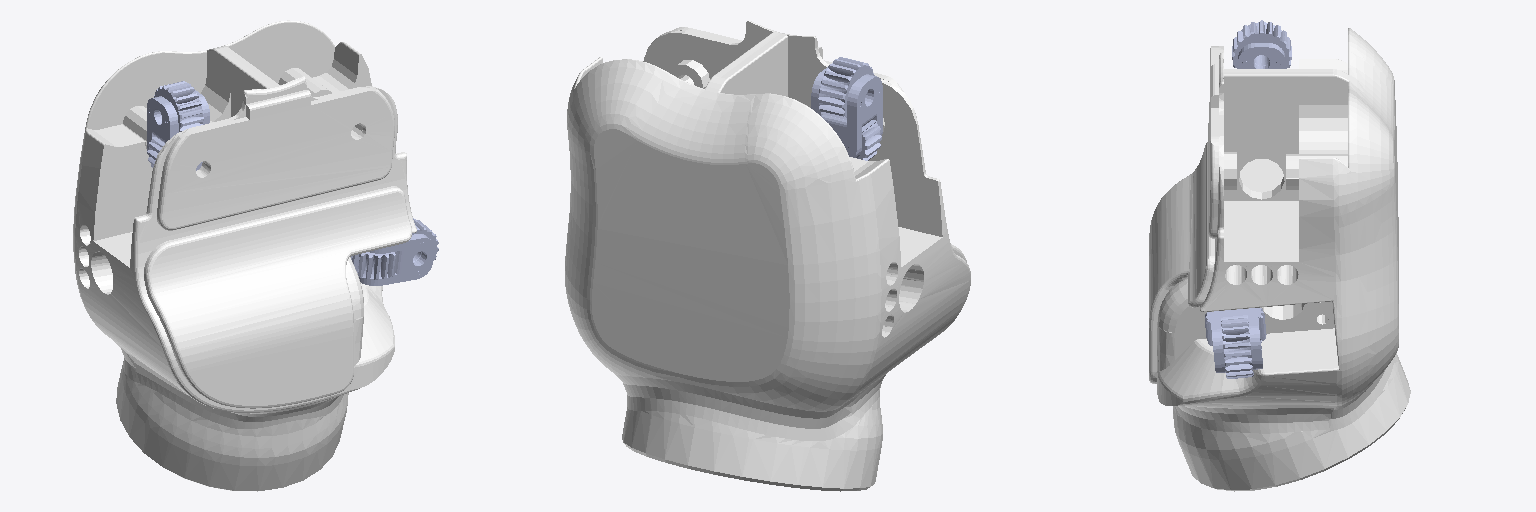
robot.urdf — HX01P1_2_URDF_2025_04_25:
<?xml version="1.0" encoding="utf-8"?>
<!-- This URDF was automatically created by SolidWorks to URDF Exporter! Originally created by [author] ([email redacted]) 
     Commit Version: 1.6.0-4-g7f85cfe  Build Version: 1.6.7995.38578
     For more information, please see http://wiki.ros.org/sw_urdf_exporter -->
<robot
  name="HX01P1_2_URDF_2025_04_25">
  <mujoco>
    <compiler meshdir="..\meshes" balanceinertia="false" discardvisual="false"/>
  </mujoco>
  <link
    name="base_link">
    <inertial>
      <origin
        xyz="-0.00314321543381847 1.13854543315466E-05 -0.0469933358701324"
        rpy="0 0 0" />
      <mass
        value="0.411547465045794" />
      <inertia
        ixx="0.000457197745587714"
        ixy="-1.45152611155004E-05"
        ixz="-9.30884132062933E-06"
        iyy="0.000528006291368628"
        iyz="-7.83914805263515E-05"
        izz="0.000353375974966479" />
    </inertial>
    <visual>
      <origin
        xyz="0 0 0"
        rpy="0 0 0" />
      <geometry>
        <mesh
          filename="package://HX01P1_2_URDF_2025_04_25/meshes/base_link.STL" />
      </geometry>
      <material
        name="">
        <color
          rgba="1 1 1 0.25" />
      </material>
    </visual>
    <collision>
      <origin
        xyz="0 0 0"
        rpy="0 0 0" />
      <geometry>
        <mesh
          filename="package://HX01P1_2_URDF_2025_04_25/meshes/base_link.STL" />
      </geometry>
    </collision>
  </link>
  <link
    name="Finger1_MCP_Knuckel">
    <inertial>
      <origin
        xyz="0.0421686696386719 -0.015426048645104 -0.0466060478506438"
        rpy="0 0 0" />
      <mass
        value="0.00436140273842147" />
      <inertia
        ixx="1.42159895349904E-07"
        ixy="-7.36939313995797E-10"
        ixz="1.48367569815417E-09"
        iyy="1.59816244339232E-07"
        iyz="6.12196033300201E-11"
        izz="1.59722430249032E-07" />
    </inertial>
    <visual>
      <origin
        xyz="0 0 0"
        rpy="0 0 0" />
      <geometry>
        <mesh
          filename="package://HX01P1_2_URDF_2025_04_25/meshes/Finger1_MCP_Knuckel.STL" />
      </geometry>
      <material
        name="">
        <color
          rgba="0.792156862745098 0.819607843137255 0.933333333333333 1" />
      </material>
    </visual>
    <collision>
      <origin
        xyz="0 0 0"
        rpy="0 0 0" />
      <geometry>
        <mesh
          filename="package://HX01P1_2_URDF_2025_04_25/meshes/Finger1_MCP_Knuckel.STL" />
      </geometry>
    </collision>
  </link>
  <joint
    name="joint#1_finger1_abad"
    type="revolute">
    <origin
      xyz="0 0 0"
      rpy="0 0 0" />
    <parent
      link="base_link" />
    <child
      link="Finger1_MCP_Knuckel" />
    <axis
      xyz="-0.0871557427476608 0.0871557427476628 -0.992374804704456" />
    <limit
      lower="-2.1"
      upper="0"
      effort="0"
      velocity="0" />
  </joint>
  <link
    name="Finger1_Proxi_Phalanx">
    <inertial>
      <origin
        xyz="8.04256704604878E-06 -0.00154315690861876 0.0237707606585844"
        rpy="0 0 0" />
      <mass
        value="0.0202104726562832" />
      <inertia
        ixx="5.32127160366845E-06"
        ixy="2.0735720988433E-10"
        ixz="2.44269644006269E-09"
        iyy="4.93448483616243E-06"
        iyz="1.2903336924453E-06"
        izz="3.09191027862971E-06" />
    </inertial>
    <visual>
      <origin
        xyz="0 0 0"
        rpy="0 0 0" />
      <geometry>
        <mesh
          filename="package://HX01P1_2_URDF_2025_04_25/meshes/Finger1_Proxi_Phalanx.STL" />
      </geometry>
      <material
        name="">
        <color
          rgba="0.792156862745098 0.819607843137255 0.933333333333333 1" />
      </material>
    </visual>
    <collision>
      <origin
        xyz="0 0 0"
        rpy="0 0 0" />
      <geometry>
        <mesh
          filename="package://HX01P1_2_URDF_2025_04_25/meshes/Finger1_Proxi_Phalanx.STL" />
      </geometry>
    </collision>
  </link>
  <joint
    name="joint#2_finger1_flex1"
    type="revolute">
    <origin
      xyz="0.0486401551960459 -0.0151539437372638 -0.0471500023683496"
      rpy="-1.65500964152168 0.0905390900790199 -1.53647622029557" />
    <parent
      link="Finger1_MCP_Knuckel" />
    <child
      link="Finger1_Proxi_Phalanx" />
    <axis
      xyz="1 0 0" />
    <limit
      lower="0"
      upper="2.1"
      effort="0"
      velocity="0" />
  </joint>
  <link
    name="Finger1_Dist_Phalanx">
    <inertial>
      <origin
        xyz="4.96680859477031E-05 -0.010124035284097 0.0165770900777064"
        rpy="0 0 0" />
      <mass
        value="0.0176550868832926" />
      <inertia
        ixx="4.02684646627818E-06"
        ixy="-5.48100382854274E-09"
        ixz="-8.51961540817579E-09"
        iyy="2.76990689495446E-06"
        iyz="1.27524978556554E-06"
        izz="3.12075000495327E-06" />
    </inertial>
    <visual>
      <origin
        xyz="0 0 0"
        rpy="0 0 0" />
      <geometry>
        <mesh
          filename="package://HX01P1_2_URDF_2025_04_25/meshes/Finger1_Dist_Phalanx.STL" />
      </geometry>
      <material
        name="">
        <color
          rgba="0.792156862745098 0.819607843137255 0.933333333333333 1" />
      </material>
    </visual>
    <collision>
      <origin
        xyz="0 0 0"
        rpy="0 0 0" />
      <geometry>
        <mesh
          filename="package://HX01P1_2_URDF_2025_04_25/meshes/Finger1_Dist_Phalanx.STL" />
      </geometry>
    </collision>
  </link>
  <joint
    name="joint#3_finger1_flex2"
    type="revolute">
    <origin
      xyz="0 -0.0237880345493973 0.0617490033302251"
      rpy="0.447125638688997 0 0" />
    <parent
      link="Finger1_Proxi_Phalanx" />
    <child
      link="Finger1_Dist_Phalanx" />
    <axis
      xyz="-1 0 0" />
    <limit
      lower="0"
      upper="2.1"
      effort="0"
      velocity="0" />
  </joint>
  <link
    name="Finger2_Proxi_Phalanx">
    <inertial>
      <origin
        xyz="8.03941874995967E-06 0.00913751624479266 0.0219985298361151"
        rpy="0 0 0" />
      <mass
        value="0.0202104889338019" />
      <inertia
        ixx="5.32127790828749E-06"
        ixy="1.2640319047297E-09"
        ixz="2.09720636677861E-09"
        iyy="5.59777233381563E-06"
        iyz="5.34443481552869E-08"
        izz="2.42862441395025E-06" />
    </inertial>
    <visual>
      <origin
        xyz="0 0 0"
        rpy="0 0 0" />
      <geometry>
        <mesh
          filename="package://HX01P1_2_URDF_2025_04_25/meshes/Finger2_Proxi_Phalanx.STL" />
      </geometry>
      <material
        name="">
        <color
          rgba="0.792156862745098 0.819607843137255 0.933333333333333 1" />
      </material>
    </visual>
    <collision>
      <origin
        xyz="0 0 0"
        rpy="0 0 0" />
      <geometry>
        <mesh
          filename="package://HX01P1_2_URDF_2025_04_25/meshes/Finger2_Proxi_Phalanx.STL" />
      </geometry>
    </collision>
  </link>
  <joint
    name="joint#4_finger2_flex1"
    type="revolute">
    <origin
      xyz="0.0281330246557196 -0.00799999999999999 0.0129505310751928"
      rpy="0 0.0872664625997165 0" />
    <parent
      link="base_link" />
    <child
      link="Finger2_Proxi_Phalanx" />
    <axis
      xyz="1 0 0" />
    <limit
      lower="0"
      upper="2.1"
      effort="0"
      velocity="0" />
  </joint>
  <link
    name="Finger2_Dist_Phalanx">
    <inertial>
      <origin
        xyz="4.96596942105298E-05 0.00714087338374853 0.0180639919901678"
        rpy="0 0 0" />
      <mass
        value="0.0176551623115758" />
      <inertia
        ixx="4.02689478826306E-06"
        ixy="-1.01044561746007E-08"
        ixz="-7.45981723447978E-10"
        iyy="4.21968522379183E-06"
        iyz="-1.82116754516754E-07"
        izz="1.67102249222128E-06" />
    </inertial>
    <visual>
      <origin
        xyz="0 0 0"
        rpy="0 0 0" />
      <geometry>
        <mesh
          filename="package://HX01P1_2_URDF_2025_04_25/meshes/Finger2_Dist_Phalanx.STL" />
      </geometry>
      <material
        name="">
        <color
          rgba="0.792156862745098 0.819607843137255 0.933333333333333 1" />
      </material>
    </visual>
    <collision>
      <origin
        xyz="0 0 0"
        rpy="0 0 0" />
      <geometry>
        <mesh
          filename="package://HX01P1_2_URDF_2025_04_25/meshes/Finger2_Dist_Phalanx.STL" />
      </geometry>
    </collision>
  </link>
  <joint
    name="joint#5_finger2_flex2"
    type="revolute">
    <origin
      xyz="0 0.00600000000000033 0.0659"
      rpy="0 0 0" />
    <parent
      link="Finger2_Proxi_Phalanx" />
    <child
      link="Finger2_Dist_Phalanx" />
    <axis
      xyz="-1 0 0" />
    <limit
      lower="0"
      upper="2.1"
      effort="0"
      velocity="0" />
  </joint>
  <link
    name="Finger3_MCP_Knuckel">
    <inertial>
      <origin
        xyz="4.95757603306141E-07 4.95757603158689E-07 0.00650000000000001"
        rpy="0 0 0" />
      <mass
        value="0.00436140331617378" />
      <inertia
        ixx="1.59847453396862E-07"
        ixy="-7.49873788616909E-13"
        ixz="-5.07470404925871E-12"
        iyy="1.59847453396862E-07"
        iyz="5.0747040492634E-12"
        izz="1.42005296546262E-07" />
    </inertial>
    <visual>
      <origin
        xyz="0 0 0"
        rpy="0 0 0" />
      <geometry>
        <mesh
          filename="package://HX01P1_2_URDF_2025_04_25/meshes/Finger3_MCP_Knuckel.STL" />
      </geometry>
      <material
        name="">
        <color
          rgba="0.792156862745098 0.819607843137255 0.933333333333333 1" />
      </material>
    </visual>
    <collision>
      <origin
        xyz="0 0 0"
        rpy="0 0 0" />
      <geometry>
        <mesh
          filename="package://HX01P1_2_URDF_2025_04_25/meshes/Finger3_MCP_Knuckel.STL" />
      </geometry>
    </collision>
  </link>
  <joint
    name="joint#6_finger3_abad"
    type="revolute">
    <origin
      xyz="-0.027 -0.00799999999999999 0"
      rpy="0 0 0" />
    <parent
      link="base_link" />
    <child
      link="Finger3_MCP_Knuckel" />
    <axis
      xyz="0 1 0" />
    <limit
      lower="-0.79"
      upper="0.26"
      effort="0"
      velocity="0" />
  </joint>
  <link
    name="Finger3_Proxi_Phalanx">
    <inertial>
      <origin
        xyz="8.04117973512639E-06 0.0100165249953892 0.0216124776566758"
        rpy="0 0 0" />
      <mass
        value="0.0202104720704891" />
      <inertia
        ixx="5.32127708117865E-06"
        ixy="1.34776056207346E-09"
        ixz="2.04474931025199E-09"
        iyy="5.59692981103583E-06"
        iyz="-7.4326508231126E-08"
        izz="2.42946644189107E-06" />
    </inertial>
    <visual>
      <origin
        xyz="0 0 0"
        rpy="0 0 0" />
      <geometry>
        <mesh
          filename="package://HX01P1_2_URDF_2025_04_25/meshes/Finger3_Proxi_Phalanx.STL" />
      </geometry>
      <material
        name="">
        <color
          rgba="0.792156862745098 0.819607843137255 0.933333333333333 1" />
      </material>
    </visual>
    <collision>
      <origin
        xyz="0 0 0"
        rpy="0 0 0" />
      <geometry>
        <mesh
          filename="package://HX01P1_2_URDF_2025_04_25/meshes/Finger3_Proxi_Phalanx.STL" />
      </geometry>
    </collision>
  </link>
  <joint
    name="joint#7_finger3_flex1"
    type="revolute">
    <origin
      xyz="0 0 0.013"
      rpy="0 0 0" />
    <parent
      link="Finger3_MCP_Knuckel" />
    <child
      link="Finger3_Proxi_Phalanx" />
    <axis
      xyz="1 0 0" />
    <limit
      lower="0"
      upper="2.1"
      effort="0"
      velocity="0" />
  </joint>
  <link
    name="Finger3_Dist_Phalanx">
    <inertial>
      <origin
        xyz="4.96543147663793E-05 0.00640718478870799 0.0183370776542785"
        rpy="0 0 0" />
      <mass
        value="0.017655175308132" />
      <inertia
        ixx="4.02689920264773E-06"
        ixy="-1.00663492422049E-08"
        ixz="-1.15336444118468E-09"
        iyy="4.23021615454477E-06"
        iyz="-7.8911041266525E-08"
        izz="1.66049607192739E-06" />
    </inertial>
    <visual>
      <origin
        xyz="0 0 0"
        rpy="0 0 0" />
      <geometry>
        <mesh
          filename="package://HX01P1_2_URDF_2025_04_25/meshes/Finger3_Dist_Phalanx.STL" />
      </geometry>
      <material
        name="">
        <color
          rgba="0.792156862745098 0.819607843137255 0.933333333333333 1" />
      </material>
    </visual>
    <collision>
      <origin
        xyz="0 0 0"
        rpy="0 0 0" />
      <geometry>
        <mesh
          filename="package://HX01P1_2_URDF_2025_04_25/meshes/Finger3_Dist_Phalanx.STL" />
      </geometry>
    </collision>
  </link>
  <joint
    name="joint#8_finger3_flex2"
    type="revolute">
    <origin
      xyz="0 0.00865057582363768 0.0656047066750251"
      rpy="-0.0403060398718764 0 0" />
    <parent
      link="Finger3_Proxi_Phalanx" />
    <child
      link="Finger3_Dist_Phalanx" />
    <axis
      xyz="-1 0 0" />
    <limit
      lower="0"
      upper="2.1"
      effort="0"
      velocity="0" />
  </joint>
</robot>

--- Render facts (derived) ---
3 views of the same robot in one strip: view 1: azimuth 30°, elevation 25°; view 2: azimuth 150°, elevation 25°; view 3: azimuth 270°, elevation 25° (orthographic).
Robot: HX01P1_2_URDF_2025_04_25 — 9 links, 8 joints (8 revolute); root link base_link; default pose: every joint at zero.
Visible links, largest first — view 1: base_link, Finger1_MCP_Knuckel, Finger3_MCP_Knuckel; view 2: base_link, Finger3_MCP_Knuckel; view 3: base_link, Finger1_MCP_Knuckel, Finger3_MCP_Knuckel.
Link boxes in pixels (x1,y1,x2,y2): base_link: (73,20,416,491); Finger1_MCP_Knuckel: (351,218,438,285); Finger3_MCP_Knuckel: (147,81,209,170); base_link: (565,21,970,491); Finger3_MCP_Knuckel: (811,57,882,160); base_link: (1149,28,1410,491); Finger1_MCP_Knuckel: (1205,308,1266,378); Finger3_MCP_Knuckel: (1232,20,1291,68).
Bounding box of the posed robot: 0.1079 × 0.0766 × 0.1313 m (x, y, z).
Meshes: 9 distinct files referenced, 3 mesh visuals loaded (3 binary STL); not drawn: 6 (reference not matched to a file when rendering).